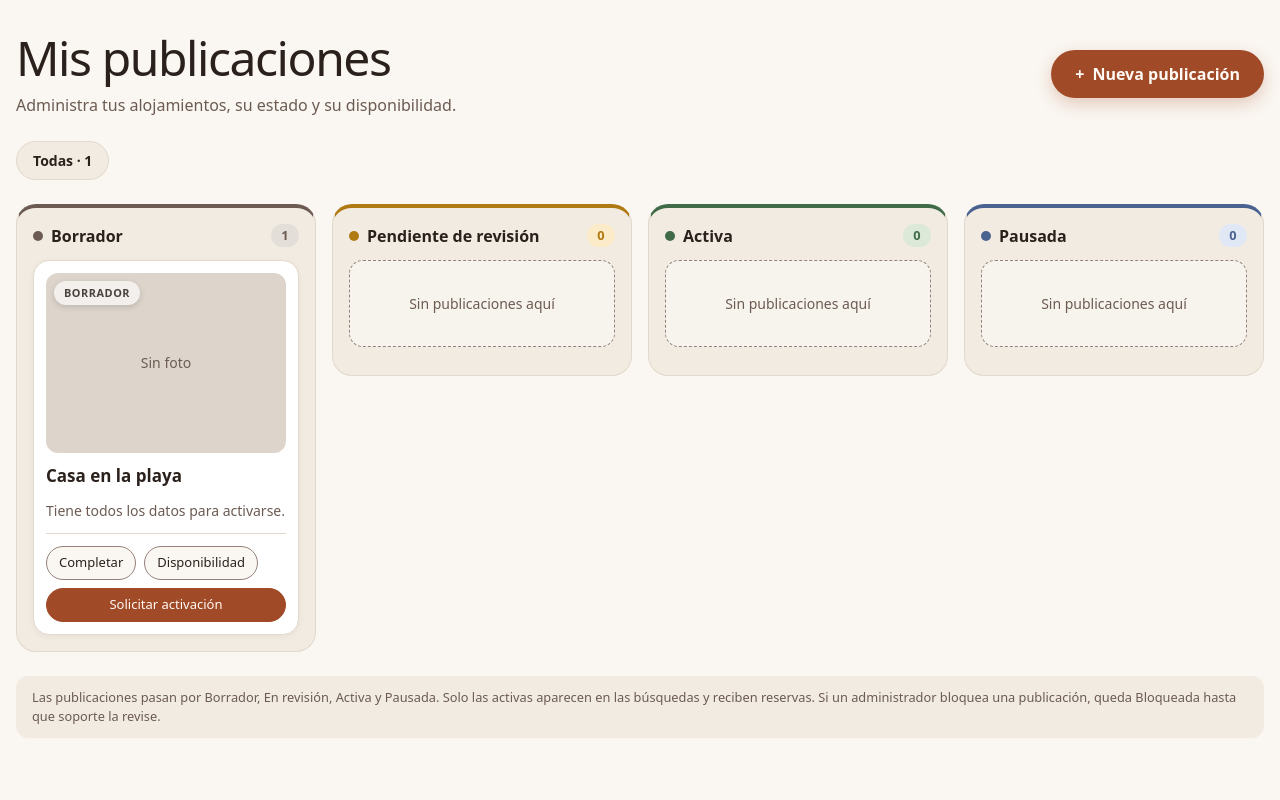
MisPublicacionesPage › al activar un borrador completo lo muestra en revisión y ya no ofrece activarlo
The width and height of the screenshot is (1280, 800).
Click the button with aria-label "Solicitar activación Casa en la playa" at coordinates (166, 605), box [46,588,286,622]
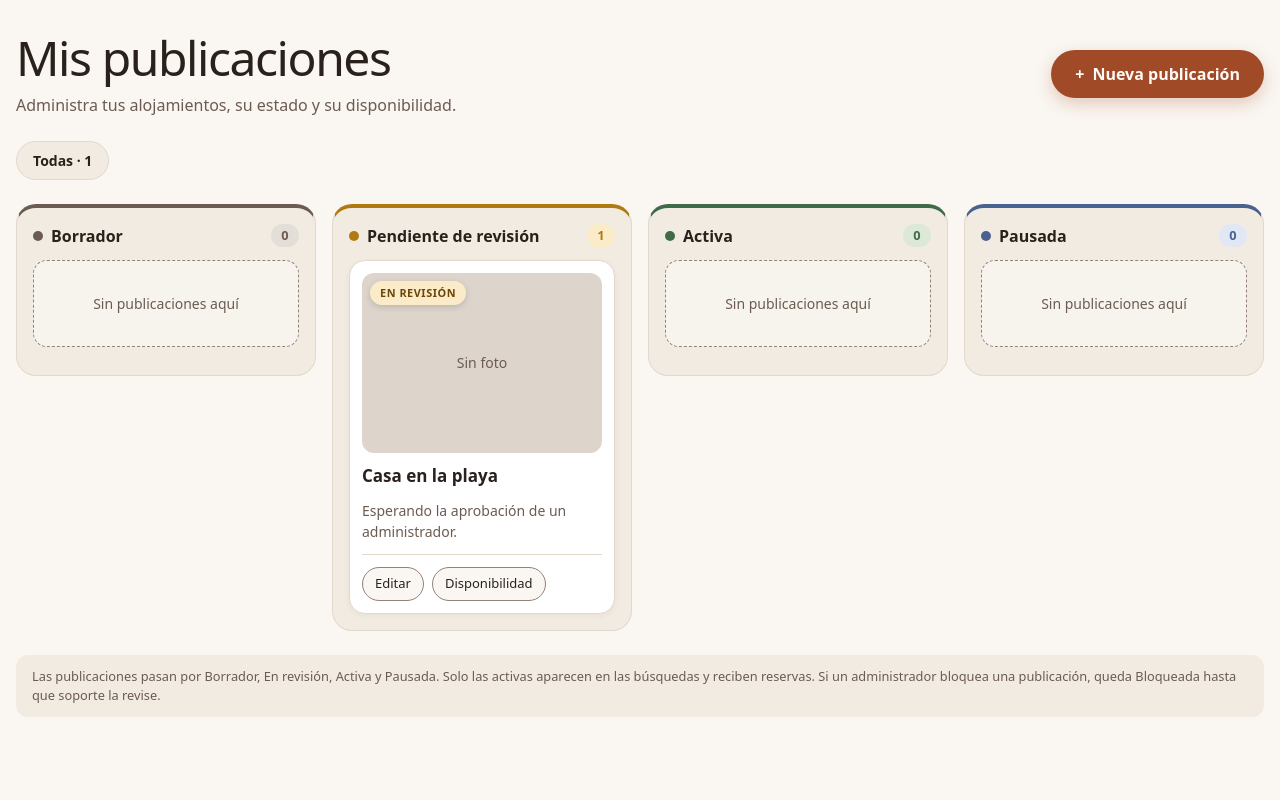
Now the text "En revisión" is shown, box [370,281,466,305]
Now the text "Esperando la aprobación de un administrador." is shown, box [362,500,602,542]
